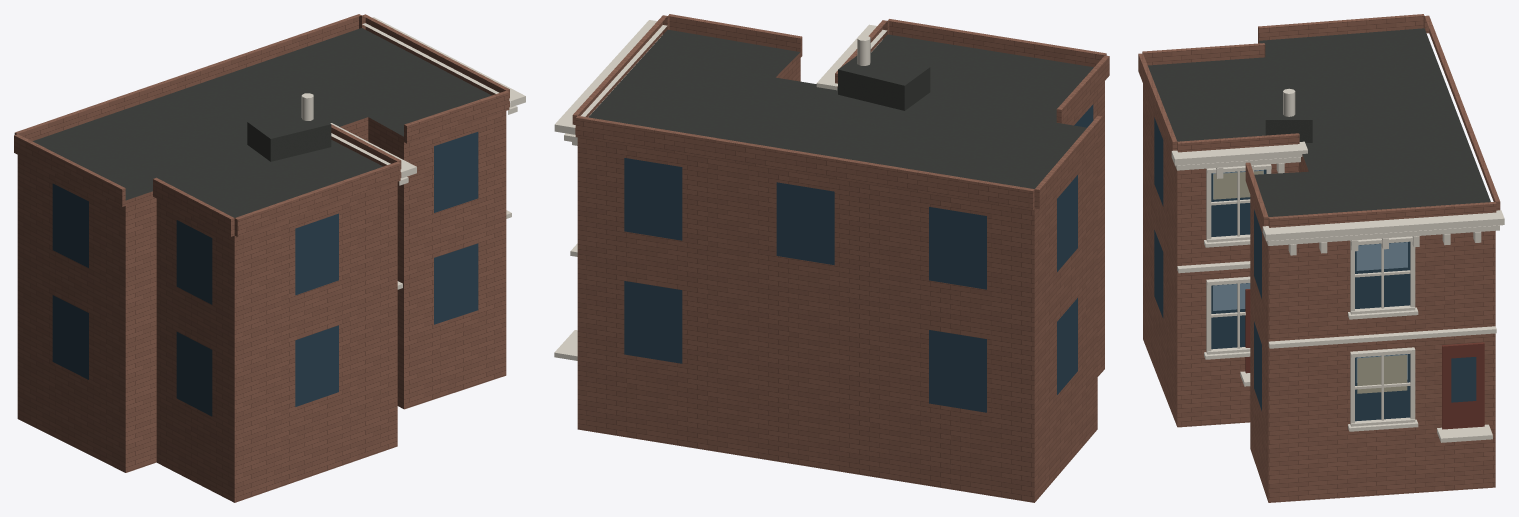
The picture shows the model from 3 angles, left to right: view 1: azimuth 30°, elevation 25°; view 2: azimuth 150°, elevation 25°; view 3: azimuth 270°, elevation 25°; orthographic projection. The views are drawn at different scales.
Visible parts, largest first — view 1: Footprint 0 / surface 2, Footprint 0 / surface 1, Inset glazing, Facade bay volumes, Cornices and window frames, Inferred rooftop service enclosure / surface 5, Inferred rooftop service enclosure / surface 3, Inferred rooftop service enclosure / surface 2; view 2: Footprint 0 / surface 2, Footprint 0 / surface 1, Inset glazing, Facade bay volumes, Cornices and window frames, Inferred rooftop service enclosure / surface 6, Inferred rooftop service enclosure / surface 3, Inferred rooftop service enclosure / surface 2; view 3: Footprint 0 / surface 2, Footprint 0 / surface 1, Cornices and window frames, Facade bay volumes, Inset glazing, Storefronts and doors, Interior blind variation, Sky reflection panels, Inferred rooftop service enclosure / surface 3, Inferred rooftop service enclosure / surface 1.
Part boxes in pixels (bbox=[...]): Footprint 0 / surface 2: bbox=[17, 111, 506, 502]; Footprint 0 / surface 1: bbox=[33, 28, 491, 217]; Inset glazing: bbox=[52, 132, 478, 416]; Facade bay volumes: bbox=[14, 14, 509, 236]; Cornices and window frames: bbox=[330, 17, 525, 289]; Inferred rooftop service enclosure / surface 5: bbox=[270, 124, 331, 161]; Inferred rooftop service enclosure / surface 3: bbox=[248, 109, 330, 138]; Inferred rooftop service enclosure / surface 2: bbox=[247, 122, 270, 161]; Footprint 0 / surface 2: bbox=[577, 52, 1104, 502]; Footprint 0 / surface 1: bbox=[588, 29, 1093, 188]; Inset glazing: bbox=[624, 104, 1093, 412]; Facade bay volumes: bbox=[572, 14, 1109, 210]; Cornices and window frames: bbox=[554, 20, 887, 360]; Inferred rooftop service enclosure / surface 6: bbox=[838, 69, 904, 110]; Inferred rooftop service enclosure / surface 3: bbox=[838, 52, 929, 85]; Inferred rooftop service enclosure / surface 2: bbox=[904, 67, 930, 110]; Footprint 0 / surface 2: bbox=[1143, 41, 1495, 502]; Footprint 0 / surface 1: bbox=[1147, 28, 1490, 216]; Cornices and window frames: bbox=[1171, 141, 1504, 442]; Facade bay volumes: bbox=[1138, 14, 1500, 230]; Inset glazing: bbox=[1154, 117, 1476, 421]; Storefronts and doors: bbox=[1245, 289, 1484, 429]; Interior blind variation: bbox=[1213, 170, 1407, 393]; Sky reflection panels: bbox=[1213, 170, 1407, 382]; Inferred rooftop service enclosure / surface 3: bbox=[1265, 90, 1312, 119]; Inferred rooftop service enclosure / surface 1: bbox=[1265, 120, 1312, 142].
Size of the model in its own units: 12.88 by 9.05 by 9.4.
